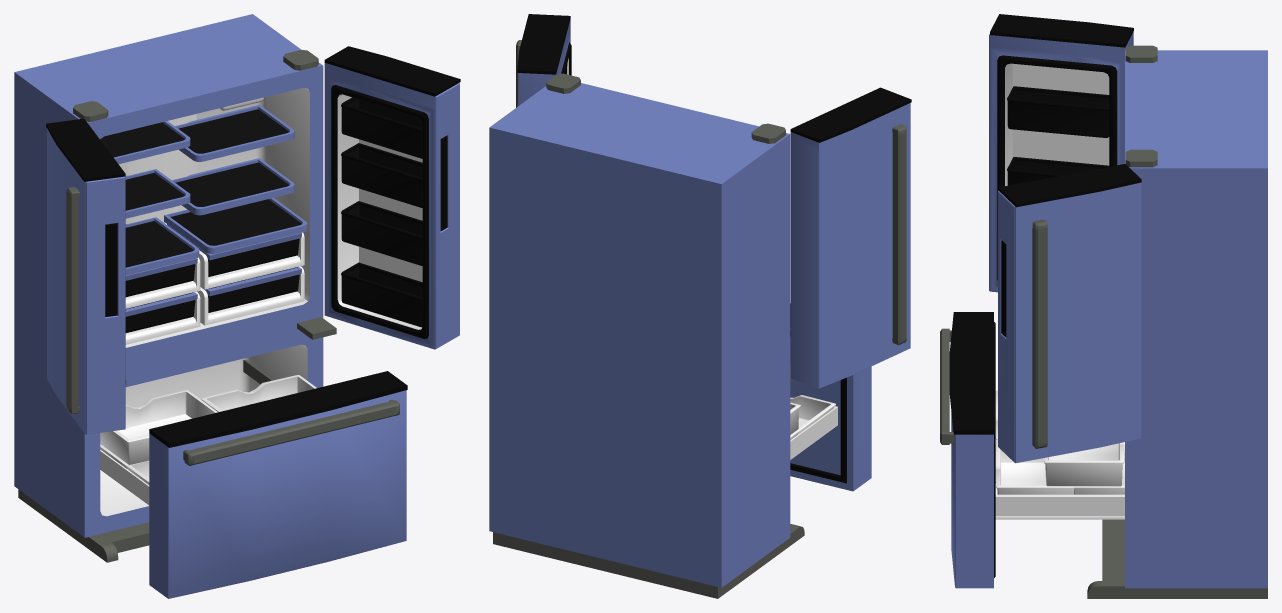
Rendered from Fridge3.fbx.
3 views of the same model, side by side, from view 1: azimuth 30°, elevation 25°; view 2: azimuth 150°, elevation 25°; view 3: azimuth 270°, elevation 25° (orthographic). The views are drawn at different scales.
Visible parts, largest first — view 1: FridgeBody3, FridgeBottomDoor3, FridgeTopDoor1, FridgeTopDoor2, FridgeShelf3B (2), FridgeShelf3A (4), FridgeShelf3A (3), FreezerShelf3, FridgeDoorShelf3 (3), FridgeDoorShelf3, FridgeDoorShelf3 (7), FridgeDoorShelf3 (2) (+12 smaller); view 2: FridgeBody3, FridgeTopDoor2, FridgeBottomDoor3, FridgeTopDoor1, FreezerShelf3 (4); view 3: FridgeBody3, FridgeTopDoor1, FridgeBottomDoor3, FridgeTopDoor2, FridgeDoorShelf3 (6), FreezerShelf3 (2), FreezerShelf3 (3), FridgeDoorShelf3 (4), FreezerShelf3 (6).
Boxes of the visible parts, x1,y1,x2,y2 form: FridgeBody3: (14, 14, 336, 562); FridgeBottomDoor3: (100, 371, 407, 598); FridgeTopDoor1: (324, 46, 460, 349); FridgeTopDoor2: (46, 118, 125, 434); FridgeShelf3B (2): (164, 198, 307, 253); FridgeShelf3A (4): (172, 158, 294, 215); FridgeShelf3A (3): (175, 104, 294, 161); FreezerShelf3: (100, 390, 217, 464); FridgeDoorShelf3 (3): (341, 201, 422, 265); FridgeDoorShelf3: (341, 262, 422, 327); FridgeDoorShelf3 (7): (341, 143, 422, 207); FridgeDoorShelf3 (2): (341, 97, 422, 158); FridgeBody3: (489, 73, 804, 598); FridgeTopDoor2: (790, 87, 911, 388); FridgeBottomDoor3: (790, 303, 871, 491); FridgeTopDoor1: (516, 14, 571, 107); FreezerShelf3 (4): (790, 395, 835, 434); FridgeBody3: (1087, 45, 1267, 598); FridgeTopDoor1: (998, 164, 1141, 463); FridgeBottomDoor3: (940, 312, 1124, 588); FridgeTopDoor2: (989, 14, 1133, 292); FridgeDoorShelf3 (6): (1007, 86, 1109, 137); FreezerShelf3 (2): (1044, 442, 1124, 486); FreezerShelf3 (3): (995, 439, 1074, 494); FridgeDoorShelf3 (4): (1007, 157, 1109, 185); FreezerShelf3 (6): (1074, 450, 1124, 494).
Bounding box in the file's own units: 1410 × 1489 × 1010.
